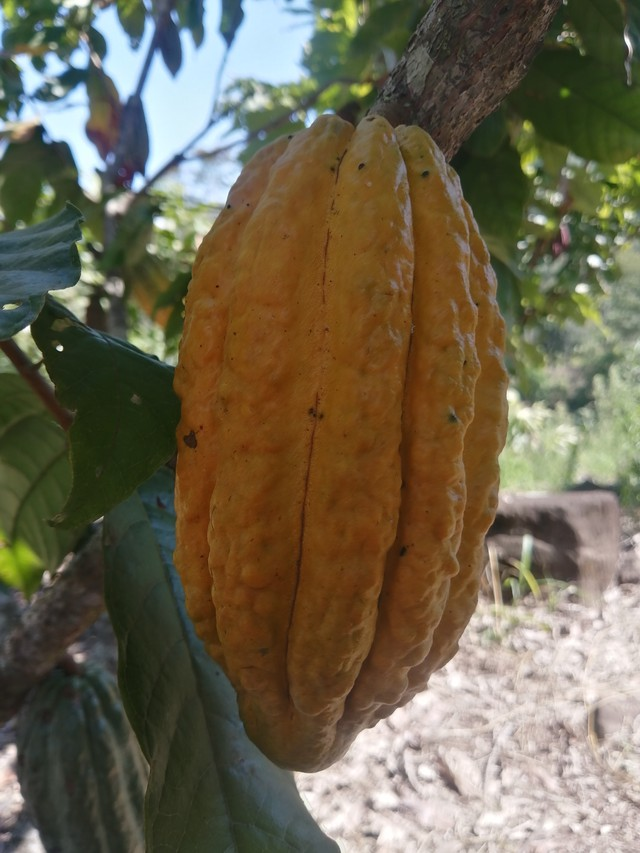Health: (132, 103, 543, 785)
